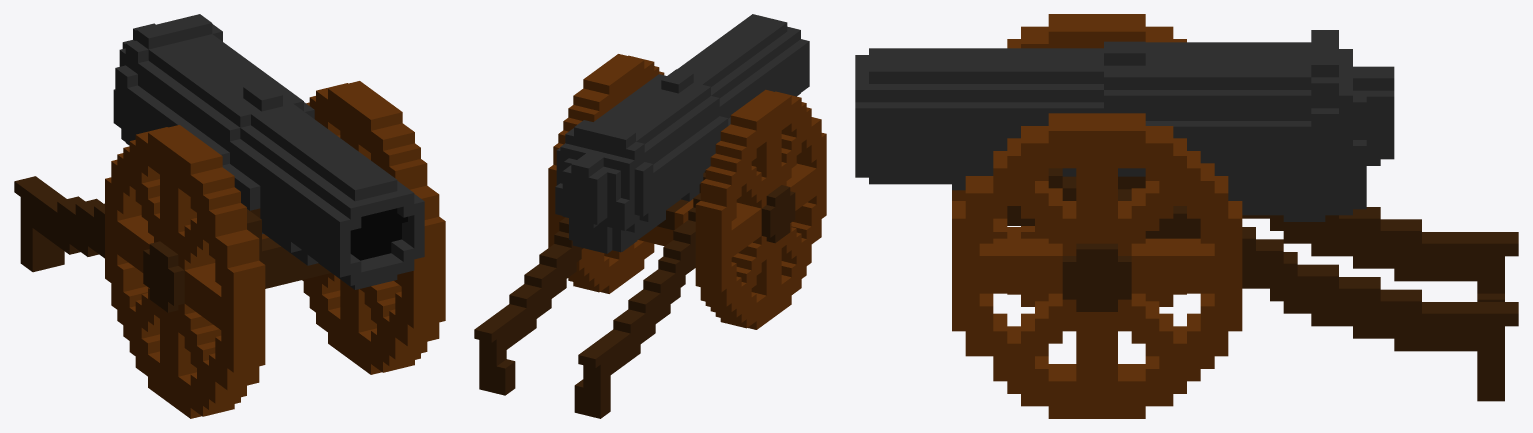
File: simple_cannon.fbx
The picture shows the model from 3 angles, left to right: view 1: azimuth 30°, elevation 25°; view 2: azimuth 150°, elevation 25°; view 3: azimuth 270°, elevation 25°; orthographic projection. The views are drawn at different scales.
Parts seen in each view (by area): view 1: simple_cannon; view 2: simple_cannon; view 3: simple_cannon.
Boxes of the visible parts, x1,y1,x2,y2 form: simple_cannon: [14, 14, 445, 418]; simple_cannon: [474, 14, 826, 418]; simple_cannon: [855, 14, 1518, 418].
Bounding box in the file's own units: 22 × 25 × 48.
